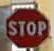stop: (5, 8, 48, 46)
